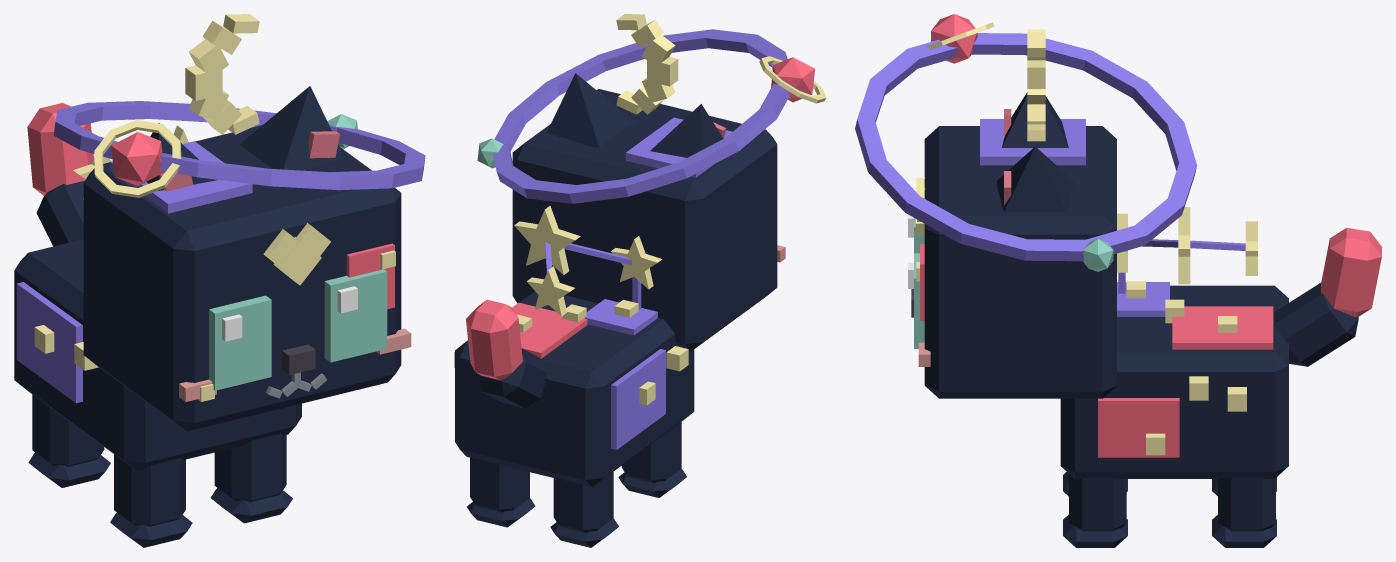
File: CatCafe_Cat_Nebula.glb
The picture shows the model from 3 angles, left to right: view 1: azimuth 30°, elevation 25°; view 2: azimuth 150°, elevation 25°; view 3: azimuth 270°, elevation 25°; orthographic projection. The views are drawn at different scales.
Parts seen in each view (by area): view 1: CatCafe_Cat_Nebula_Head, CatCafe_Cat_Nebula_Body, CatCafe_Cat_Nebula_Glow, CatCafe_Cat_Nebula_Tail, CatCafe_Cat_Nebula_LegF2, CatCafe_Cat_Nebula_LegF1, CatCafe_Cat_Nebula_Eye1, CatCafe_Cat_Nebula_Eye2, CatCafe_Cat_Nebula_EarL, CatCafe_Cat_Nebula_Prop, CatCafe_Cat_Nebula_LegB2, CatCafe_Cat_Nebula_EarR; view 2: CatCafe_Cat_Nebula_Head, CatCafe_Cat_Nebula_Body, CatCafe_Cat_Nebula_Glow, CatCafe_Cat_Nebula_Tail, CatCafe_Cat_Nebula_Stars_Glow, CatCafe_Cat_Nebula_LegB2, CatCafe_Cat_Nebula_EarL, CatCafe_Cat_Nebula_LegB1, CatCafe_Cat_Nebula_LegF2, CatCafe_Cat_Nebula_Prop, CatCafe_Cat_Nebula_EarR; view 3: CatCafe_Cat_Nebula_Head, CatCafe_Cat_Nebula_Body, CatCafe_Cat_Nebula_Glow, CatCafe_Cat_Nebula_Tail, CatCafe_Cat_Nebula_LegF1, CatCafe_Cat_Nebula_LegB1, CatCafe_Cat_Nebula_EarL, CatCafe_Cat_Nebula_Stars_Glow, CatCafe_Cat_Nebula_Prop, CatCafe_Cat_Nebula_EarR, CatCafe_Cat_Nebula_Eye1.
Part boxes in pixels (x1,y1,x2,y2): CatCafe_Cat_Nebula_Head: (83,125,411,431); CatCafe_Cat_Nebula_Body: (14,239,301,471); CatCafe_Cat_Nebula_Glow: (53,14,425,190); CatCafe_Cat_Nebula_Tail: (27,103,93,246); CatCafe_Cat_Nebula_LegF2: (110,454,192,547); CatCafe_Cat_Nebula_LegF1: (210,433,292,523); CatCafe_Cat_Nebula_Eye1: (324,269,387,362); CatCafe_Cat_Nebula_Eye2: (209,295,271,390); CatCafe_Cat_Nebula_EarL: (239,86,344,170); CatCafe_Cat_Nebula_Prop: (94,114,357,197); CatCafe_Cat_Nebula_LegB2: (28,394,110,487); CatCafe_Cat_Nebula_EarR: (146,123,217,191); CatCafe_Cat_Nebula_Head: (512,89,785,351); CatCafe_Cat_Nebula_Body: (454,291,694,487); CatCafe_Cat_Nebula_Glow: (493,14,789,203); CatCafe_Cat_Nebula_Tail: (466,299,547,408); CatCafe_Cat_Nebula_Stars_Glow: (514,206,662,316); CatCafe_Cat_Nebula_LegB2: (550,471,618,547); CatCafe_Cat_Nebula_EarL: (546,73,633,147); CatCafe_Cat_Nebula_LegB1: (467,457,535,527); CatCafe_Cat_Nebula_LegF2: (618,422,686,497); CatCafe_Cat_Nebula_Prop: (477,56,826,168); CatCafe_Cat_Nebula_EarR: (650,104,726,157); CatCafe_Cat_Nebula_Head: (911,119,1116,398); CatCafe_Cat_Nebula_Body: (1060,281,1288,478); CatCafe_Cat_Nebula_Glow: (855,29,1196,261); CatCafe_Cat_Nebula_Tail: (1274,227,1381,366); CatCafe_Cat_Nebula_LegF1: (1063,474,1127,547); CatCafe_Cat_Nebula_LegB1: (1212,478,1276,547); CatCafe_Cat_Nebula_EarL: (997,146,1073,212); CatCafe_Cat_Nebula_Stars_Glow: (1117,207,1257,284); CatCafe_Cat_Nebula_Prop: (926,14,1113,271); CatCafe_Cat_Nebula_EarR: (1002,92,1068,147); CatCafe_Cat_Nebula_Eye1: (908,253,924,348).
Size of the model in its own units: 1.48 by 2.22 by 2.19.
Materials: 1 (1 with a texture image).
